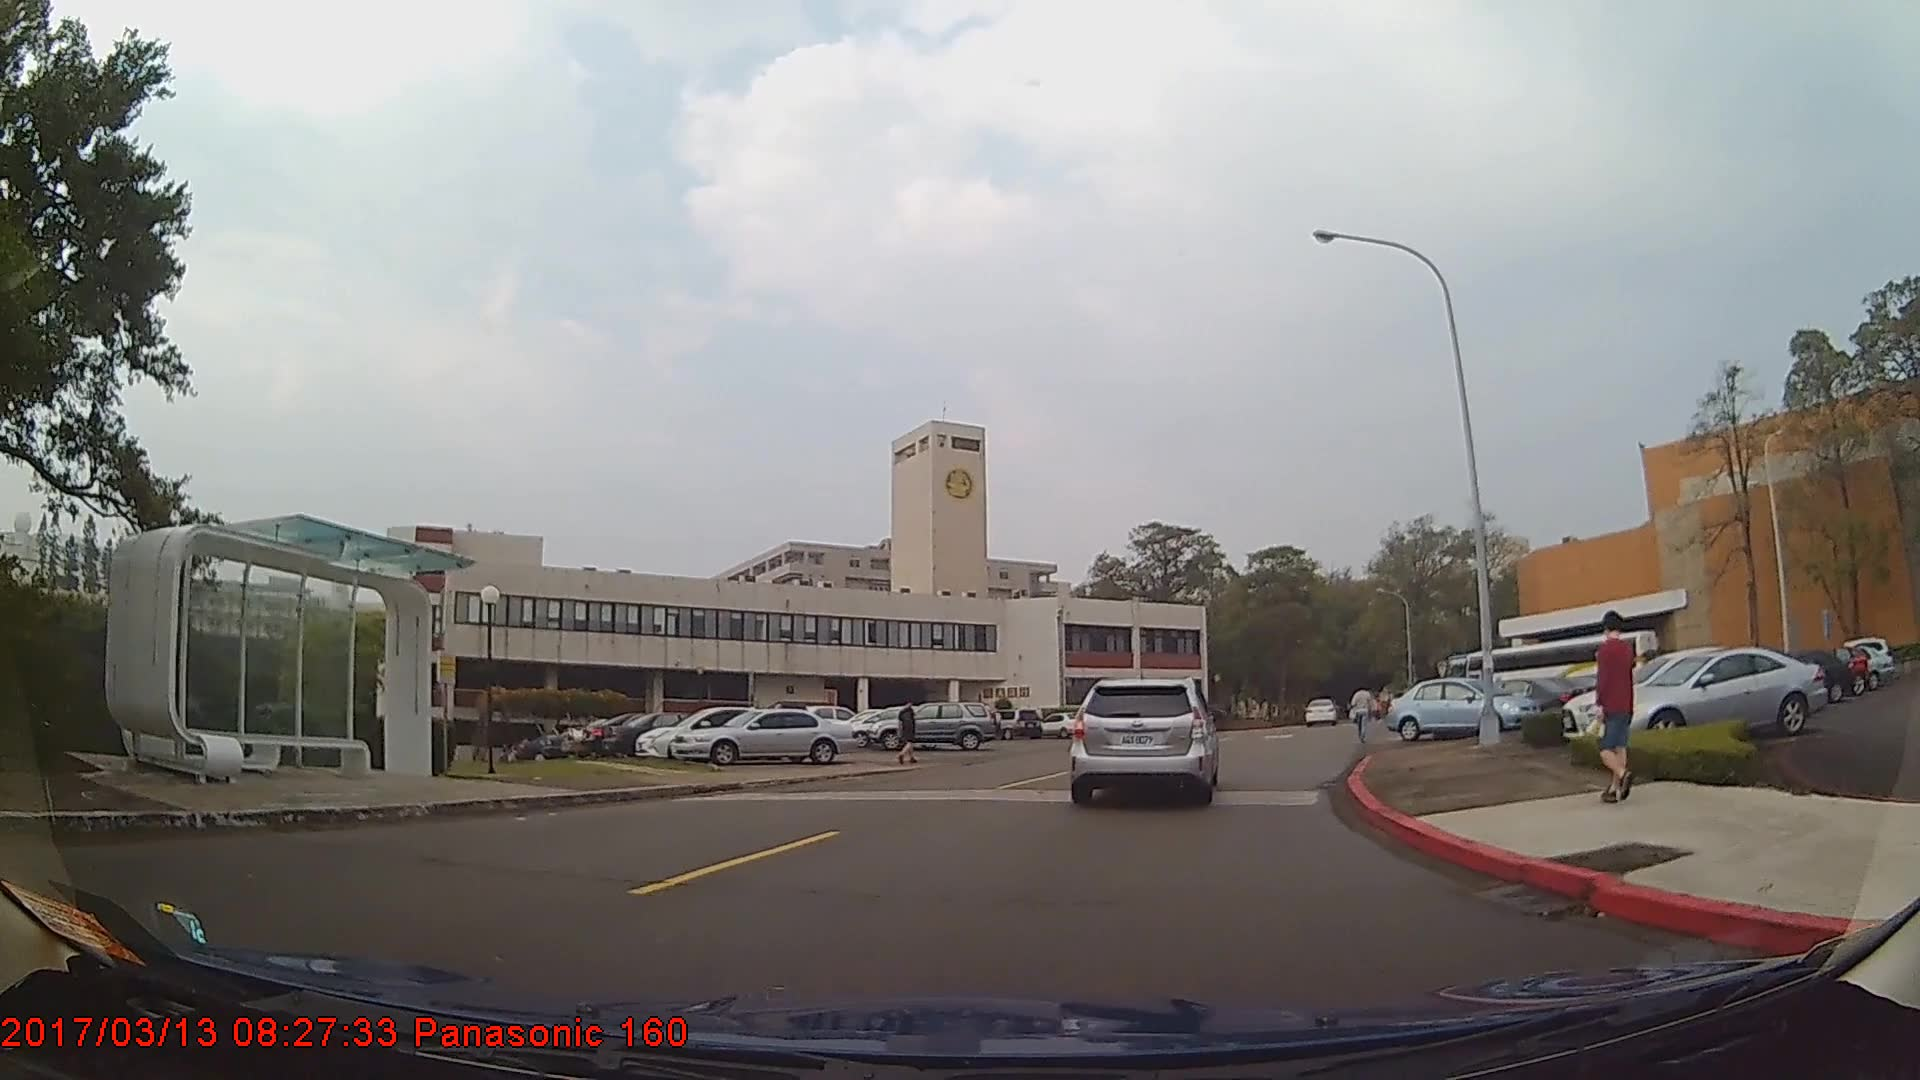pedestrian: (1588, 608, 1645, 812), (897, 700, 925, 771), (1351, 681, 1377, 742)
vehicle: (1594, 640, 1825, 735), (1561, 643, 1789, 739), (1071, 676, 1216, 807), (669, 710, 856, 766), (633, 707, 816, 763), (1383, 676, 1538, 743), (601, 709, 734, 762), (870, 702, 1001, 751), (1741, 648, 1855, 703), (1304, 695, 1338, 727)
